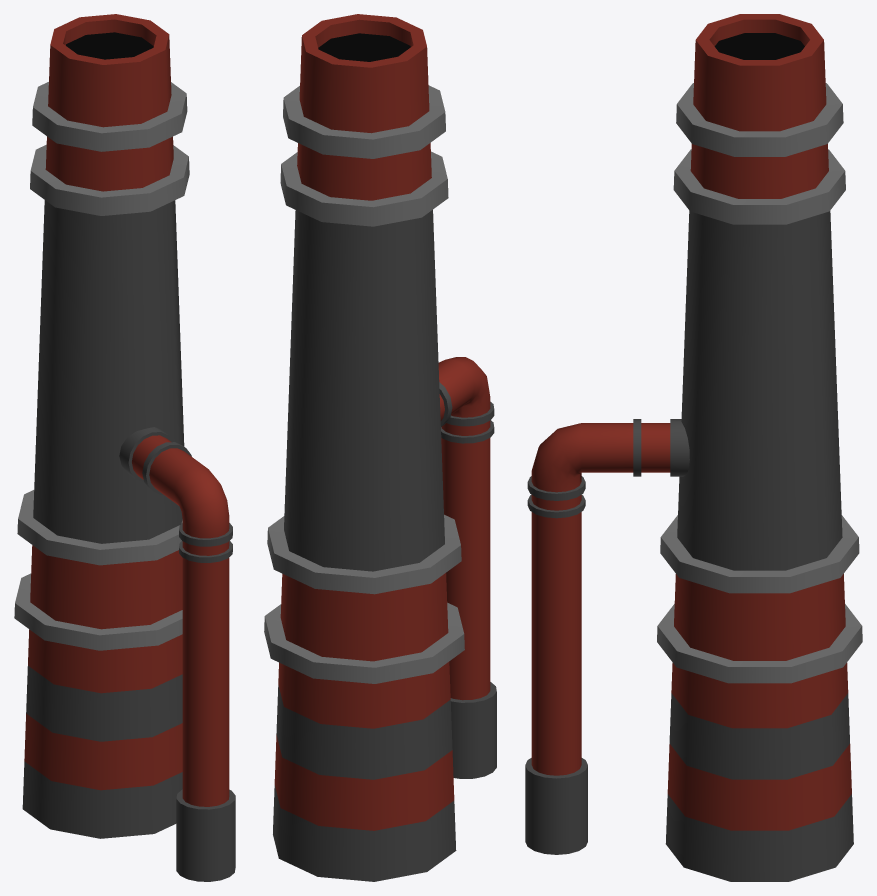
The model's file is SM_Buildings_Factory_05.fbx.
3 views of the same model, side by side, from view 1: azimuth 30°, elevation 25°; view 2: azimuth 150°, elevation 25°; view 3: azimuth 270°, elevation 25° (orthographic). The views are drawn at different scales.
Parts seen in each view (by area): view 1: SM_Buildings_Factory_05; view 2: SM_Buildings_Factory_05; view 3: SM_Buildings_Factory_05.
Part boxes in pixels (bbox=[...]): SM_Buildings_Factory_05: bbox=[14, 14, 235, 881]; SM_Buildings_Factory_05: bbox=[264, 14, 496, 881]; SM_Buildings_Factory_05: bbox=[525, 14, 862, 881].
Bounding box in the file's own units: 5.98 × 27.08 × 10.3.
